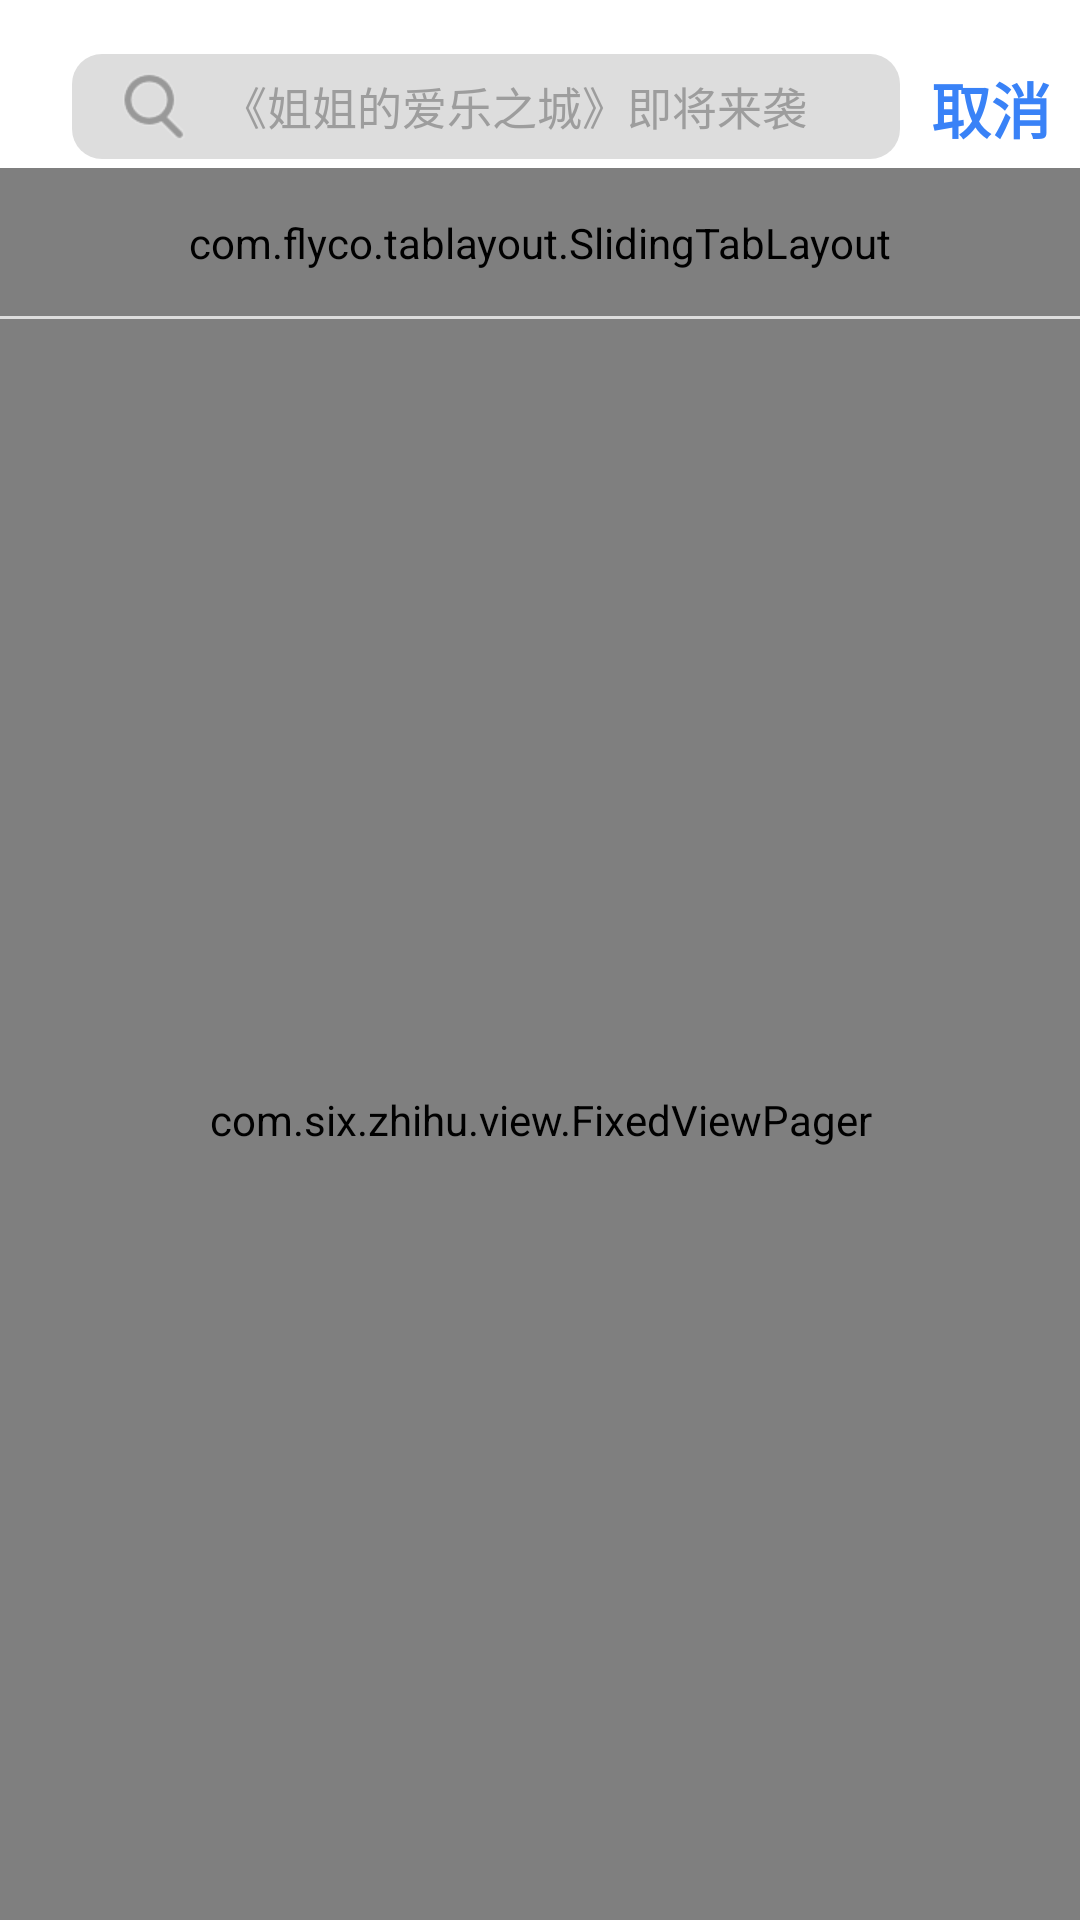

Screen size 1080 x 1920. Icon name, then its box in pixels as (x1, y1, x2, y2):
search: (124, 75, 183, 138)
